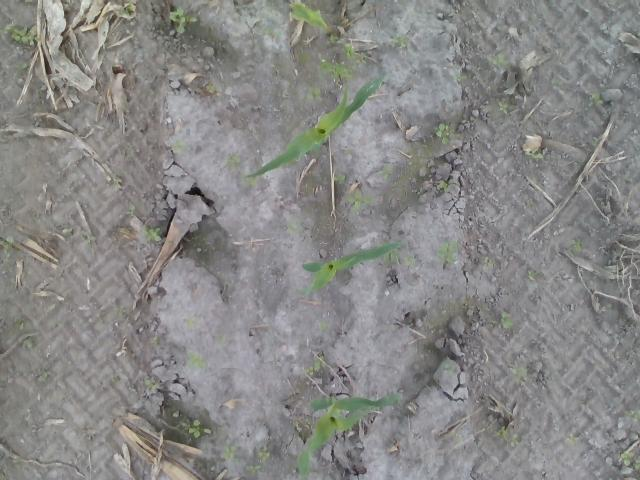Maize: (249, 76, 383, 178), (292, 394, 402, 475), (302, 240, 403, 298), (287, 0, 330, 34)
Weeds: (2, 21, 41, 46), (342, 188, 375, 214), (168, 6, 198, 34), (321, 60, 357, 80), (495, 424, 520, 447), (436, 238, 458, 264), (617, 450, 640, 472), (180, 416, 202, 438), (304, 356, 324, 377), (348, 44, 368, 64), (0, 234, 16, 259), (222, 439, 240, 460), (432, 122, 448, 145), (142, 226, 162, 243), (586, 92, 605, 108), (498, 312, 514, 330), (142, 376, 160, 392), (187, 352, 205, 368), (485, 54, 508, 66), (514, 366, 528, 385), (391, 35, 410, 49), (224, 155, 240, 171), (120, 0, 136, 16), (256, 446, 272, 462), (305, 86, 322, 101), (623, 408, 640, 422), (15, 62, 28, 80), (565, 432, 580, 447), (384, 250, 399, 265), (402, 257, 416, 273), (436, 180, 452, 194), (112, 304, 128, 317), (525, 150, 545, 160), (440, 361, 454, 375), (568, 238, 582, 252), (482, 258, 496, 272), (326, 33, 339, 47), (497, 101, 509, 116), (298, 285, 314, 296), (245, 176, 259, 188), (528, 270, 542, 281), (207, 84, 226, 92), (22, 336, 33, 349), (246, 464, 262, 472), (450, 73, 464, 82), (335, 174, 347, 184), (318, 320, 328, 331), (286, 223, 298, 232), (150, 335, 160, 345), (264, 27, 275, 36), (14, 318, 22, 330), (176, 139, 183, 152), (126, 206, 134, 214), (64, 228, 72, 236)
